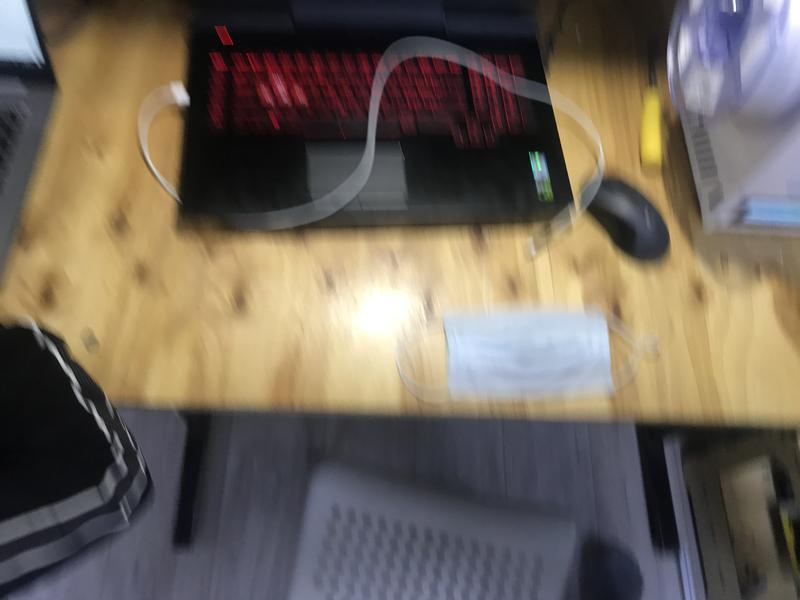medical_mask: (395, 305, 664, 403)
